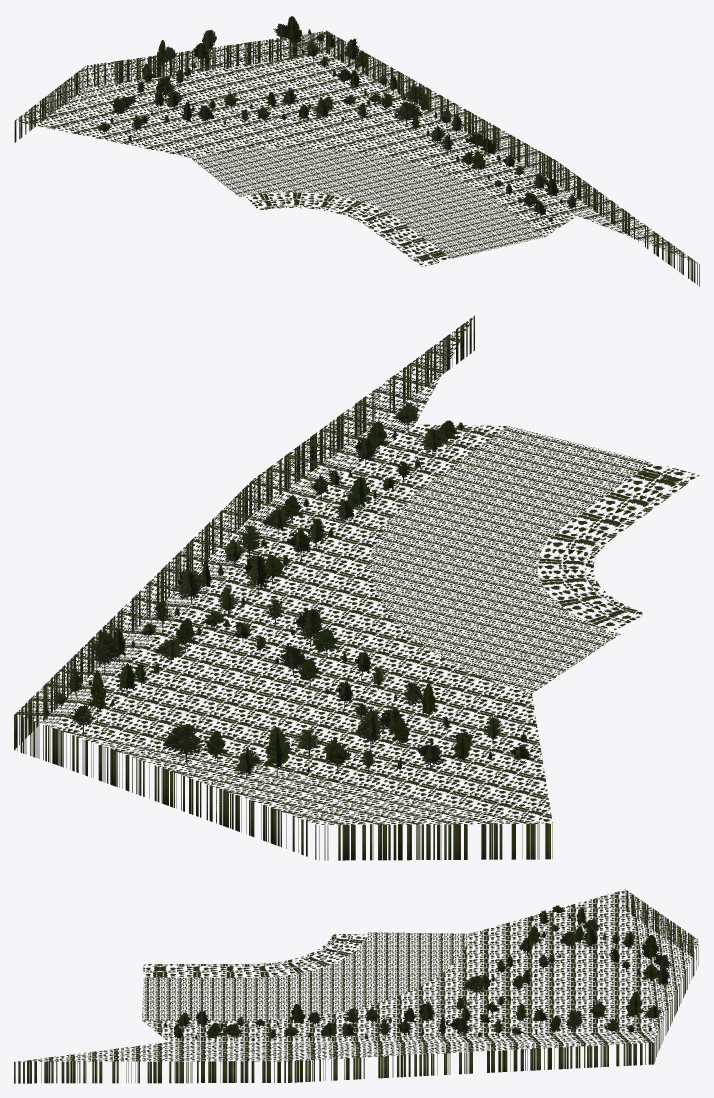
The model's file is redring2.glb.
3 views of the same model, one above another, from view 1: azimuth 30°, elevation 25°; view 2: azimuth 150°, elevation 25°; view 3: azimuth 270°, elevation 25° (orthographic). The views are drawn at different scales.
Visible parts, largest first — view 1: redring2; view 2: redring2; view 3: redring2.
Boxes of the visible parts, bbox=[...] form: redring2: bbox=[14, 16, 699, 286]; redring2: bbox=[14, 315, 699, 860]; redring2: bbox=[14, 889, 698, 1083].
Bounding box in the file's own units: 225 × 32.01 × 378.
Materials: 1 (1 with a texture image).
